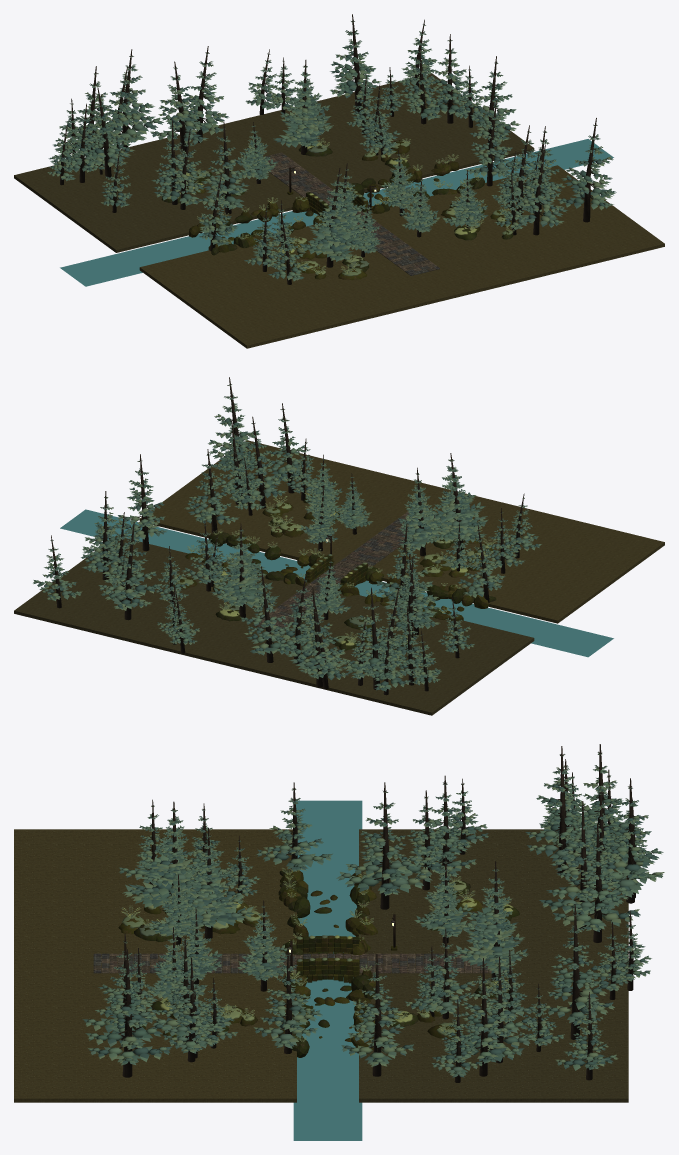
Rendered from lighthouse-1.glb.
3 views of the same model, one above another, from view 1: azimuth 30°, elevation 25°; view 2: azimuth 150°, elevation 25°; view 3: azimuth 270°, elevation 25° (orthographic). The views are drawn at different scales.
Parts seen in each view (by area): view 1: Near forest bank, Fine pine needle sprays, Far forest bank, Inner pine crown, Tapered pine trunks, Rocky forest stream, Fractured mossy riverbank slabs, Fine pine needle sprays.001, Stones in the forest crossing, Descending pine branches, Lichen-covered forest boulders, Moss clinging to boulder tops (+1 smaller); view 2: Near forest bank, Fine pine needle sprays, Far forest bank, Inner pine crown, Tapered pine trunks, Rocky forest stream, Fractured mossy riverbank slabs, Fine pine needle sprays.001, Stones in the forest crossing, Lichen-covered forest boulders, Descending pine branches, Moss clinging to boulder tops (+2 smaller); view 3: Near forest bank, Fine pine needle sprays, Far forest bank, Inner pine crown, Rocky forest stream, Tapered pine trunks, Fine pine needle sprays.001, Fractured mossy riverbank slabs, Stones in the forest crossing, Descending pine branches, Lichen-covered forest boulders, Masonry parapets on the stone bridge (+3 smaller).
Boxes of the visible parts, <box> form: Near forest bank: <box>139,165,664,348</box>; Fine pine needle sprays: <box>47,21,616,281</box>; Far forest bank: <box>14,73,534,252</box>; Inner pine crown: <box>49,21,611,278</box>; Tapered pine trunks: <box>60,14,596,284</box>; Rocky forest stream: <box>60,139,613,286</box>; Fractured mossy riverbank slabs: <box>189,161,484,255</box>; Fine pine needle sprays.001: <box>238,67,487,259</box>; Stones in the forest crossing: <box>263,152,439,275</box>; Descending pine branches: <box>56,21,608,276</box>; Lichen-covered forest boulders: <box>161,140,513,279</box>; Moss clinging to boulder tops: <box>167,140,512,276</box>; Near forest bank: <box>139,440,664,623</box>; Fine pine needle sprays: <box>33,384,541,691</box>; Far forest bank: <box>14,536,534,715</box>; Inner pine crown: <box>35,385,538,688</box>; Tapered pine trunks: <box>51,377,524,695</box>; Rocky forest stream: <box>60,509,613,657</box>; Fractured mossy riverbank slabs: <box>185,532,496,620</box>; Fine pine needle sprays.001: <box>212,459,487,613</box>; Stones in the forest crossing: <box>252,511,434,630</box>; Lichen-covered forest boulders: <box>173,495,493,650</box>; Descending pine branches: <box>40,384,534,682</box>; Moss clinging to boulder tops: <box>177,495,491,646</box>; Near forest bank: <box>14,829,296,1102</box>; Fine pine needle sprays: <box>82,752,664,1077</box>; Far forest bank: <box>359,829,628,1102</box>; Inner pine crown: <box>87,752,660,1075</box>; Rocky forest stream: <box>293,800,362,1140</box>; Tapered pine trunks: <box>121,744,636,1082</box>; Fine pine needle sprays.001: <box>124,810,527,999</box>; Fractured mossy riverbank slabs: <box>278,869,377,1057</box>; Stones in the forest crossing: <box>93,953,512,973</box>; Descending pine branches: <box>90,752,656,1066</box>; Lichen-covered forest boulders: <box>118,881,519,1039</box>; Masonry parapets on the stone bridge: <box>296,935,359,975</box>.
Size of the model in its own units: 43 by 8.65 by 34.75.
Materials: 8 (4 with a texture image).
